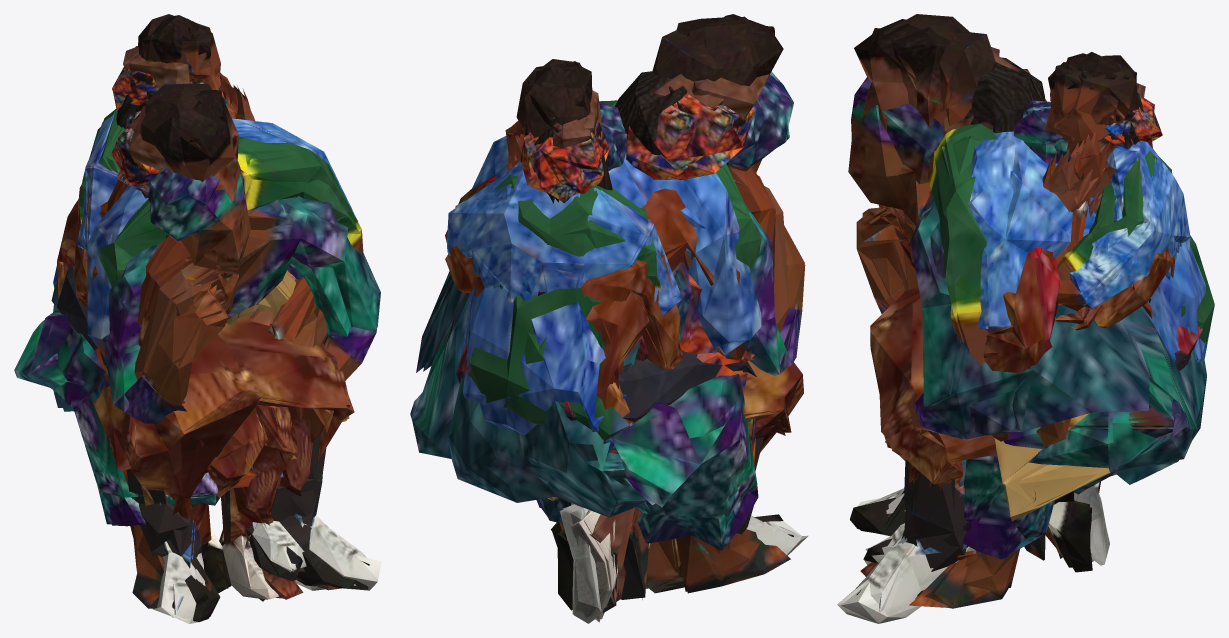
The model's file is gradins.glb.
The picture shows the model from 3 angles, left to right: view 1: azimuth 30°, elevation 25°; view 2: azimuth 150°, elevation 25°; view 3: azimuth 270°, elevation 25°; orthographic projection. The views are drawn at different scales.
Visible parts, largest first — view 1: maman-p1-haut, ancien-p1-haut, maman-p0-haut, jeune-p1-haut, bureau-p1-haut, ancien-p2-haut, ancien-p1-bas, jeune-p0-haut, bureau-p0-haut, bureau-p2-haut, bureau-p3-haut, maman-p0-bas (+15 smaller); view 2: maman-p1-haut, bureau-p1-haut, bureau-p2-haut, jeune-p1-haut, ancien-p1-haut, bureau-p3-haut, vendeuse-p1-haut, jeune-p3-haut, etudiante-p1-haut, vendeuse-p3-haut, jeune-p2-haut, ancien-p2-haut (+21 smaller); view 3: maman-p1-haut, maman-p0-haut, bureau-p1-haut, jeune-p1-haut, jeune-p0-haut, ancien-p1-haut, bureau-p2-haut, bureau-p0-haut, bureau-p3-haut, maman-p1-bas, ancien-p1-bas, etudiante-p0-haut (+16 smaller).
Boxes of the visible parts, x1,y1,x2,y2 form: maman-p1-haut: (14,167,380,608); ancien-p1-haut: (57,106,350,590); maman-p0-haut: (35,155,380,563); jeune-p1-haut: (51,100,377,623); bureau-p1-haut: (53,86,369,621); ancien-p2-haut: (78,46,303,598); ancien-p1-bas: (62,179,323,529); jeune-p0-haut: (146,90,381,621); bureau-p0-haut: (105,83,326,617); bureau-p2-haut: (80,16,302,580); bureau-p3-haut: (77,14,294,581); maman-p0-bas: (37,267,350,492); maman-p1-haut: (410,71,804,593); bureau-p1-haut: (460,16,793,536); bureau-p2-haut: (447,59,676,313); jeune-p1-haut: (469,14,808,569); ancien-p1-haut: (445,74,803,452); bureau-p3-haut: (455,62,682,504); vendeuse-p1-haut: (609,93,756,464); jeune-p3-haut: (519,64,662,623); etudiante-p1-haut: (456,86,756,421); vendeuse-p3-haut: (521,132,618,612); jeune-p2-haut: (462,63,658,614); ancien-p2-haut: (445,90,666,601); maman-p1-haut: (848,76,1206,608); maman-p0-haut: (856,104,1177,608); bureau-p1-haut: (850,14,1210,595); jeune-p1-haut: (837,19,1214,623); jeune-p0-haut: (840,26,1185,623); ancien-p1-haut: (870,47,1152,515); bureau-p2-haut: (863,61,1190,567); bureau-p0-haut: (856,31,1160,571); bureau-p3-haut: (865,55,1179,563); maman-p1-bas: (862,206,1196,574); ancien-p1-bas: (870,226,1020,488); etudiante-p0-haut: (970,57,1191,370).
Size of the model in its own units: 1.01 by 1.76 by 1.15.
1 material, 1 textured.
